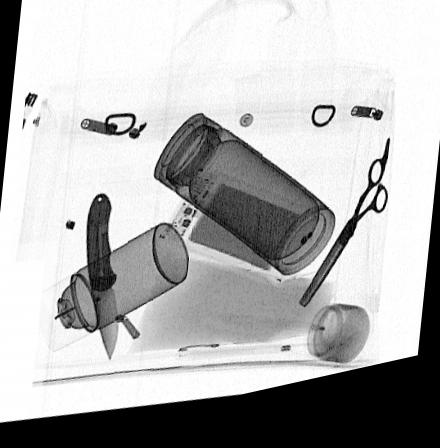Knife: (86, 195, 120, 368)
Powerbank: (161, 175, 319, 290)
Scissors: (296, 153, 394, 321)
Sprayer: (33, 230, 189, 351)
